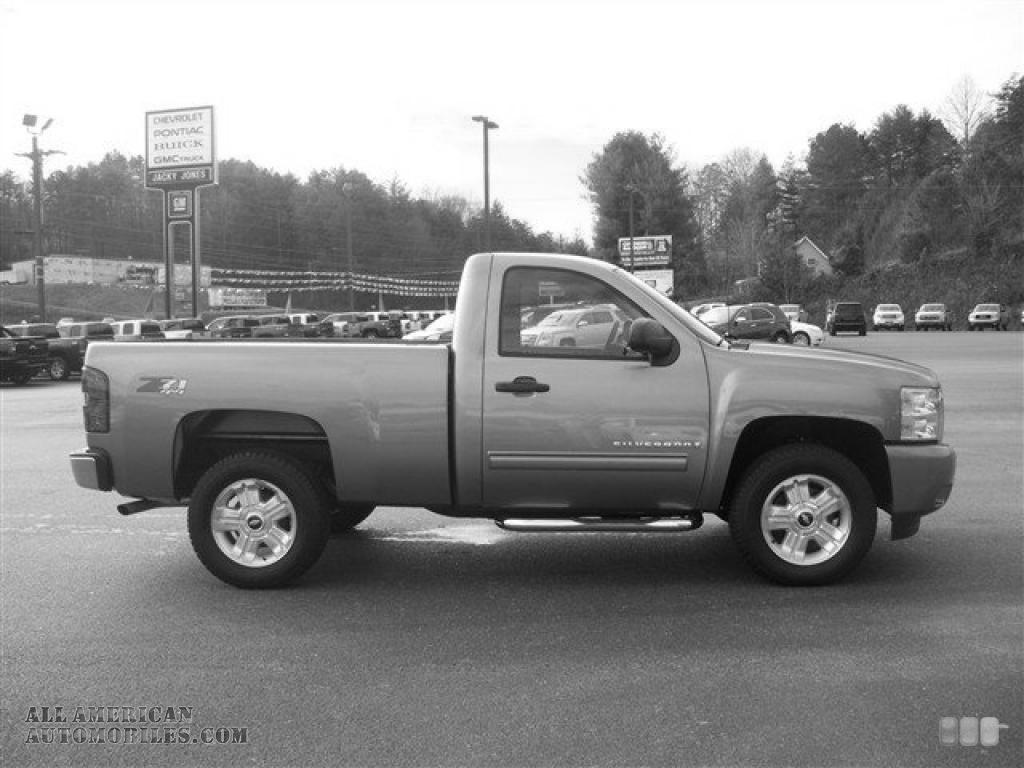car: (66, 247, 955, 587)
